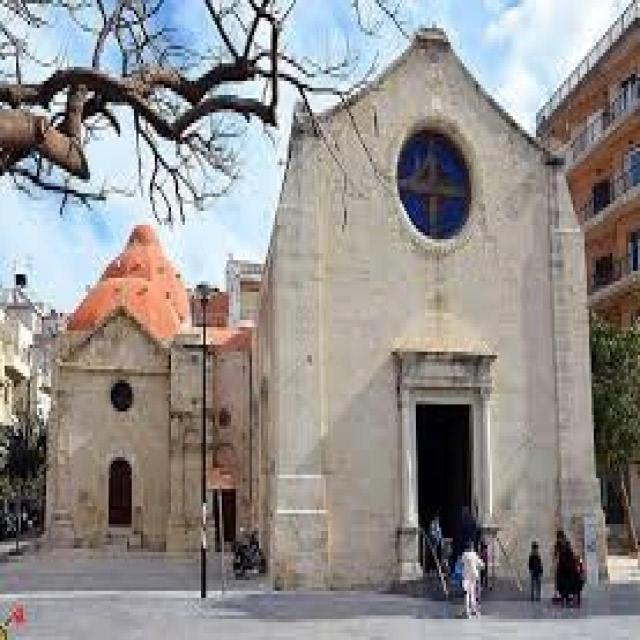Agia Aikaterini: (49, 22, 612, 597)
